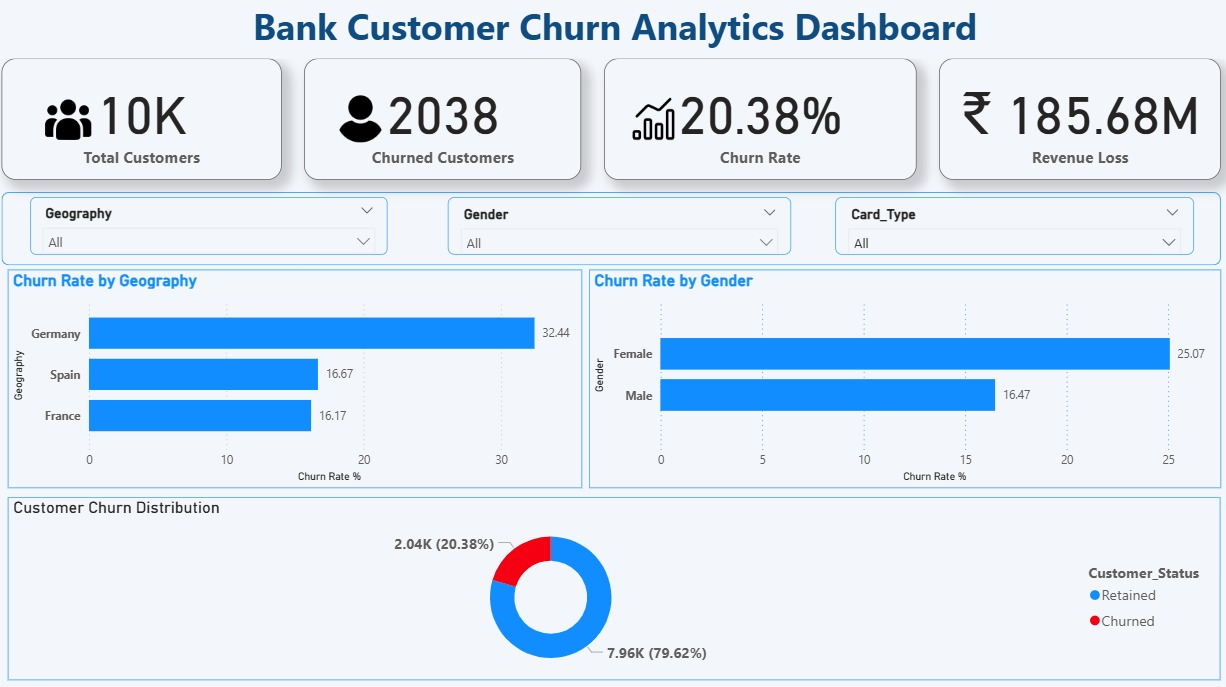

The page's visual inventory and layout, read from the dashboard file:
{"tool":"powerbi","page":{"name":"Executive Overview","canvas":[1280,720],"ordinal":0},"visuals":[{"type":"shape","box":[2.4,202.1,1266.9,76.2],"z":0},{"type":"card","fields":{"Values":["Churn_Data.Total Customers"]},"box":[2.4,63.9,291,126.7],"z":1000},{"type":"card","fields":{"Values":["Churn_Data.Churned Customers"]},"box":[316.7,63.9,288.3,126.7],"z":2000},{"type":"card","fields":{"Values":["Churn_Data.Churn Rate"]},"box":[628.2,63.9,324.5,126.7],"z":3000},{"type":"card","fields":{"Values":["Churn_Data.Revenue Loss"]},"box":[976,63.9,293.2,126.7],"z":4000},{"type":"donutChart","title":"Customer Churn Distribution","fields":{"Category":["Churn_Data.Customer_Status"],"Y":["CountNonNull(Churn_Data.Customer_Id)"]},"box":[8.6,520,1260,190],"z":5000},{"type":"clusteredBarChart","title":"Churn Rate by Geography","fields":{"Category":["Churn_Data.Geography"],"Y":["Churn_Data.Churn Rate %"]},"box":[8.6,282.9,597.1,227.1],"z":6000},{"type":"clusteredBarChart","title":"Churn Rate by Gender","fields":{"Category":["Churn_Data.Gender"],"Y":["Churn_Data.Churn Rate %"]},"box":[612.9,282.9,657.1,227.1],"z":7000},{"type":"slicer","title":"geography","fields":{"Values":["Churn_Data.Geography"]},"box":[32.9,207.1,371.4,60],"z":8000},{"type":"slicer","fields":{"Values":["Churn_Data.Gender"]},"box":[465.7,207.1,357.1,60],"z":9000},{"type":"slicer","fields":{"Values":["Churn_Data.Card_Type"]},"box":[868.6,207.1,372.9,60],"z":10000},{"type":"textbox","box":[0,0,1280,63.9],"z":12000},{"type":"image","box":[14.5,98.9,115.8,57.9],"z":13000},{"type":"image","box":[635.7,97.1,87.1,58.6],"z":13001},{"type":"image","box":[331.4,97.1,88.6,58.6],"z":13002}]}

Visuals, with their boxes in screenshot pixels (x1, y1, x2, y2), scaled from the page's 1280x720 canvas onto the 1226x687 screenshot:
shape: {"x1": 2, "y1": 193, "x2": 1216, "y2": 266}
card - Churn_Data.Total Customers: {"x1": 2, "y1": 61, "x2": 281, "y2": 182}
card - Churn_Data.Churned Customers: {"x1": 303, "y1": 61, "x2": 579, "y2": 182}
card - Churn_Data.Churn Rate: {"x1": 602, "y1": 61, "x2": 913, "y2": 182}
card - Churn_Data.Revenue Loss: {"x1": 935, "y1": 61, "x2": 1216, "y2": 182}
"Customer Churn Distribution" donutChart: {"x1": 8, "y1": 496, "x2": 1215, "y2": 677}
"Churn Rate by Geography" clusteredBarChart: {"x1": 8, "y1": 270, "x2": 580, "y2": 487}
"Churn Rate by Gender" clusteredBarChart: {"x1": 587, "y1": 270, "x2": 1216, "y2": 487}
"geography" slicer: {"x1": 32, "y1": 198, "x2": 387, "y2": 255}
slicer - Churn_Data.Gender: {"x1": 446, "y1": 198, "x2": 788, "y2": 255}
slicer - Churn_Data.Card_Type: {"x1": 832, "y1": 198, "x2": 1189, "y2": 255}
textbox: {"x1": 0, "y1": 0, "x2": 1225, "y2": 61}
image: {"x1": 14, "y1": 94, "x2": 125, "y2": 150}
image: {"x1": 609, "y1": 93, "x2": 692, "y2": 149}
image: {"x1": 317, "y1": 93, "x2": 402, "y2": 149}
